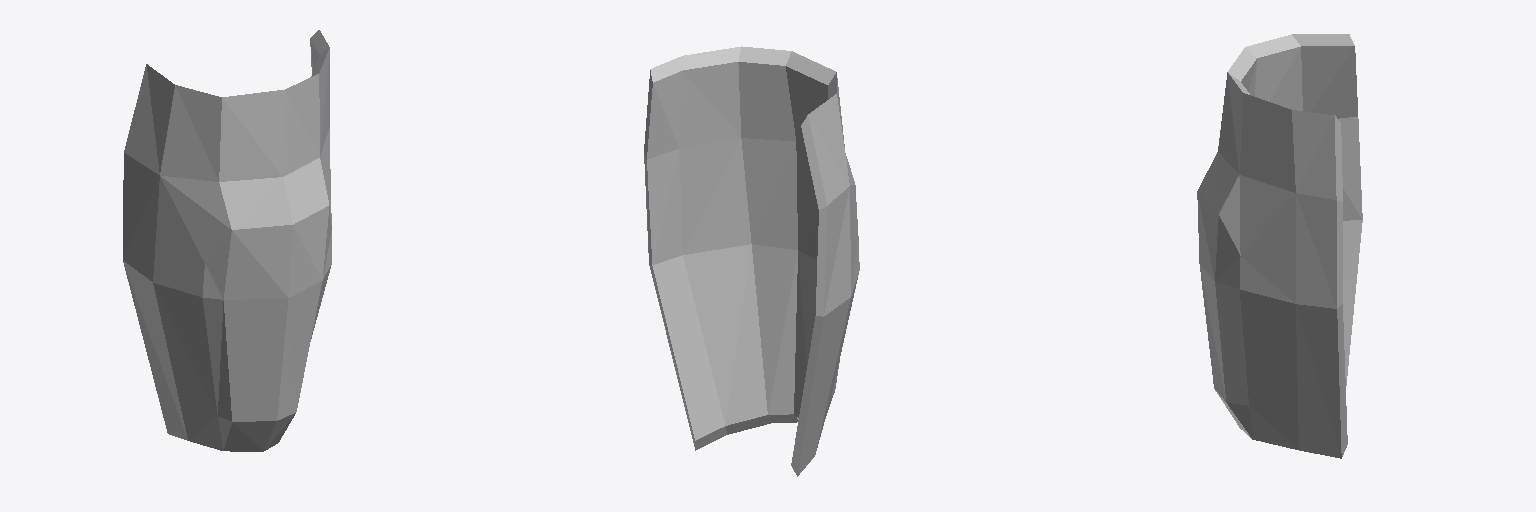
Rendered from Armor_Leg_Right.obj.
3 views of the same model, side by side, from view 1: azimuth 30°, elevation 25°; view 2: azimuth 150°, elevation 25°; view 3: azimuth 270°, elevation 25° (orthographic).
Visible parts, largest first — view 1: Armor_Leg.001_Cube.003; view 2: Armor_Leg.001_Cube.003; view 3: Armor_Leg.001_Cube.003.
Boxes of the visible parts, box(x1,y1,x2,y2) form: Armor_Leg.001_Cube.003: box(123, 30, 331, 451); Armor_Leg.001_Cube.003: box(644, 46, 859, 476); Armor_Leg.001_Cube.003: box(1197, 34, 1362, 458).
Bounding box in the file's own units: 3.69 × 6.81 × 2.76.